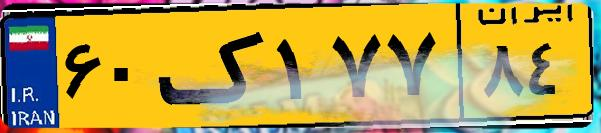0: (110, 28, 158, 98)
1: (270, 28, 330, 110)
4: (525, 38, 570, 115)
6: (57, 26, 110, 100)
7: (385, 28, 445, 110), (330, 28, 385, 110)
8: (475, 38, 525, 113)
ک: (158, 12, 270, 120)
